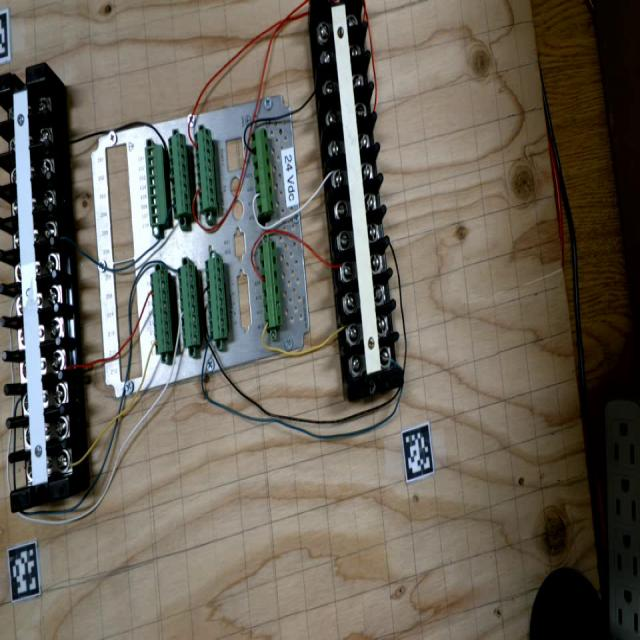Flathead_Block: (309, 0, 405, 401)
Phillips_Block: (0, 62, 72, 512)
Terminal_1: (258, 240, 283, 330), (250, 127, 275, 216)
Terminal_2: (177, 263, 201, 348), (168, 132, 191, 218), (150, 269, 173, 354), (205, 257, 228, 341), (194, 128, 217, 212)
